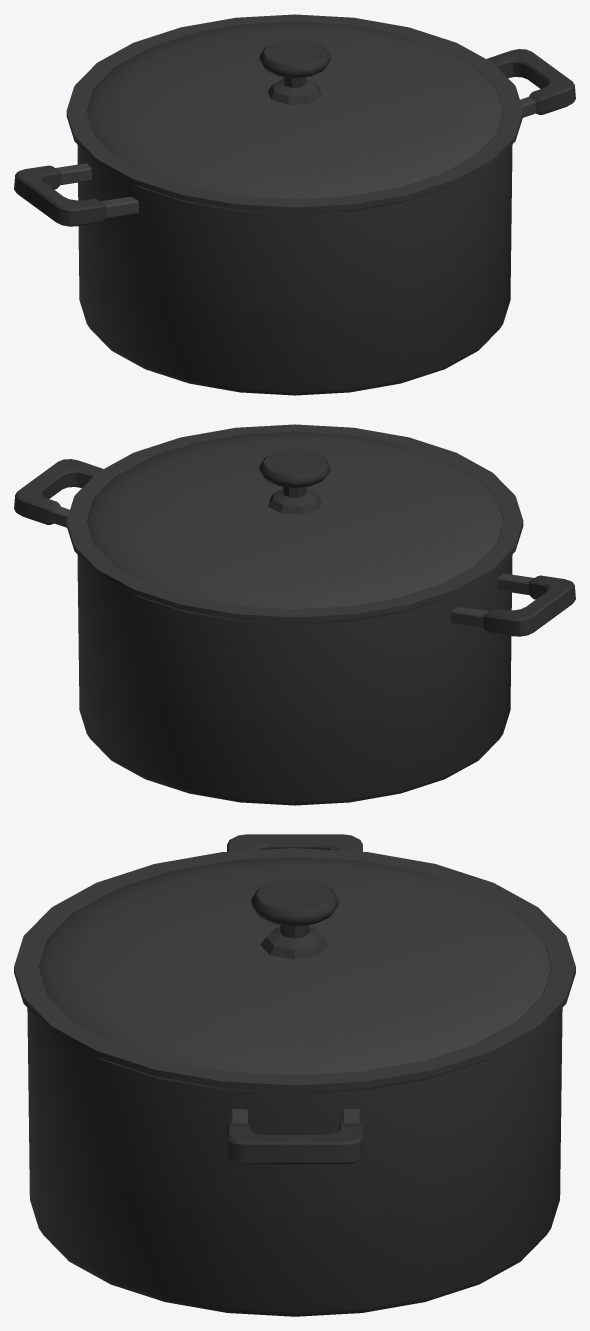
Rendered from SmallPotLid.glb.
3 views of the same model, one above another, from view 1: azimuth 30°, elevation 25°; view 2: azimuth 150°, elevation 25°; view 3: azimuth 270°, elevation 25° (orthographic). The views are drawn at different scales.
Parts seen in each view (by area): view 1: SmallPotLid; view 2: SmallPotLid; view 3: SmallPotLid.
Part boxes in pixels (x1,y1,x2,y2): SmallPotLid: (14, 14, 575, 395); SmallPotLid: (14, 424, 575, 805); SmallPotLid: (14, 834, 575, 1316).
Size of the model in its own units: 0.4174 by 0.1976 by 0.3189.
Materials: 1 (1 with a texture image).
